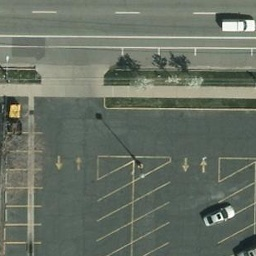car: (203, 205, 236, 228), (219, 16, 255, 34)
